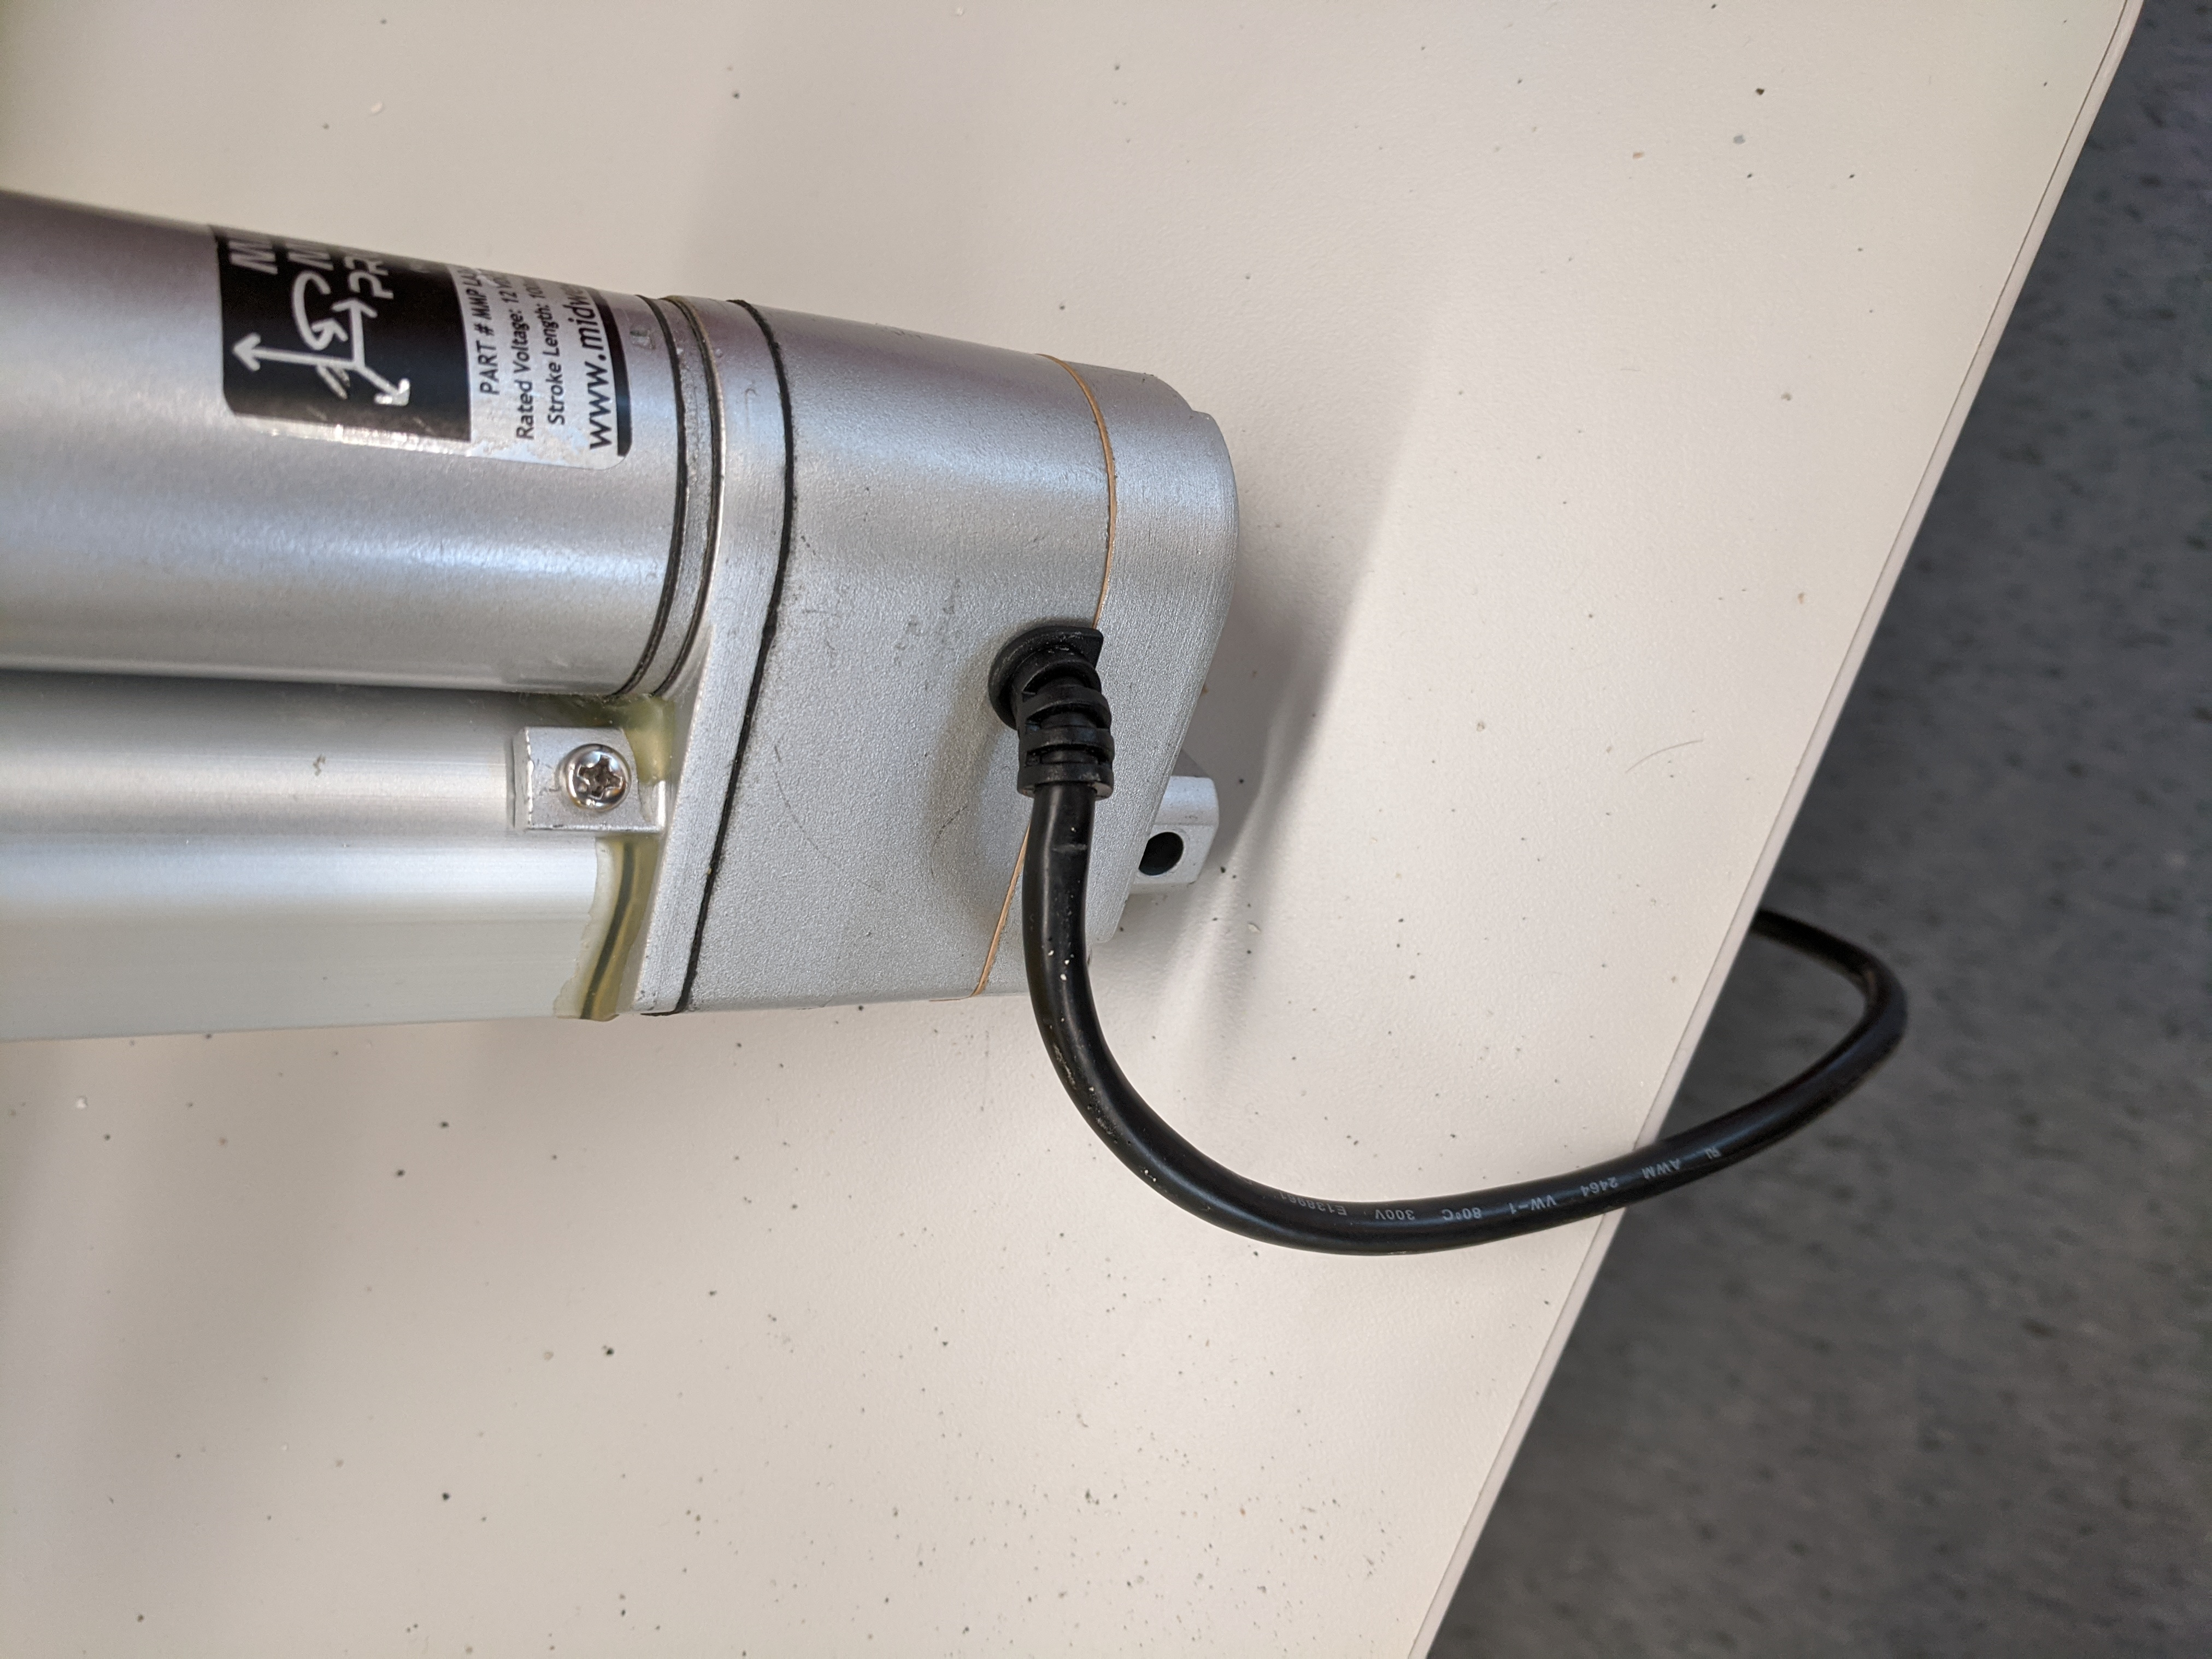cross_recessed_screw: (552, 720, 632, 828)
